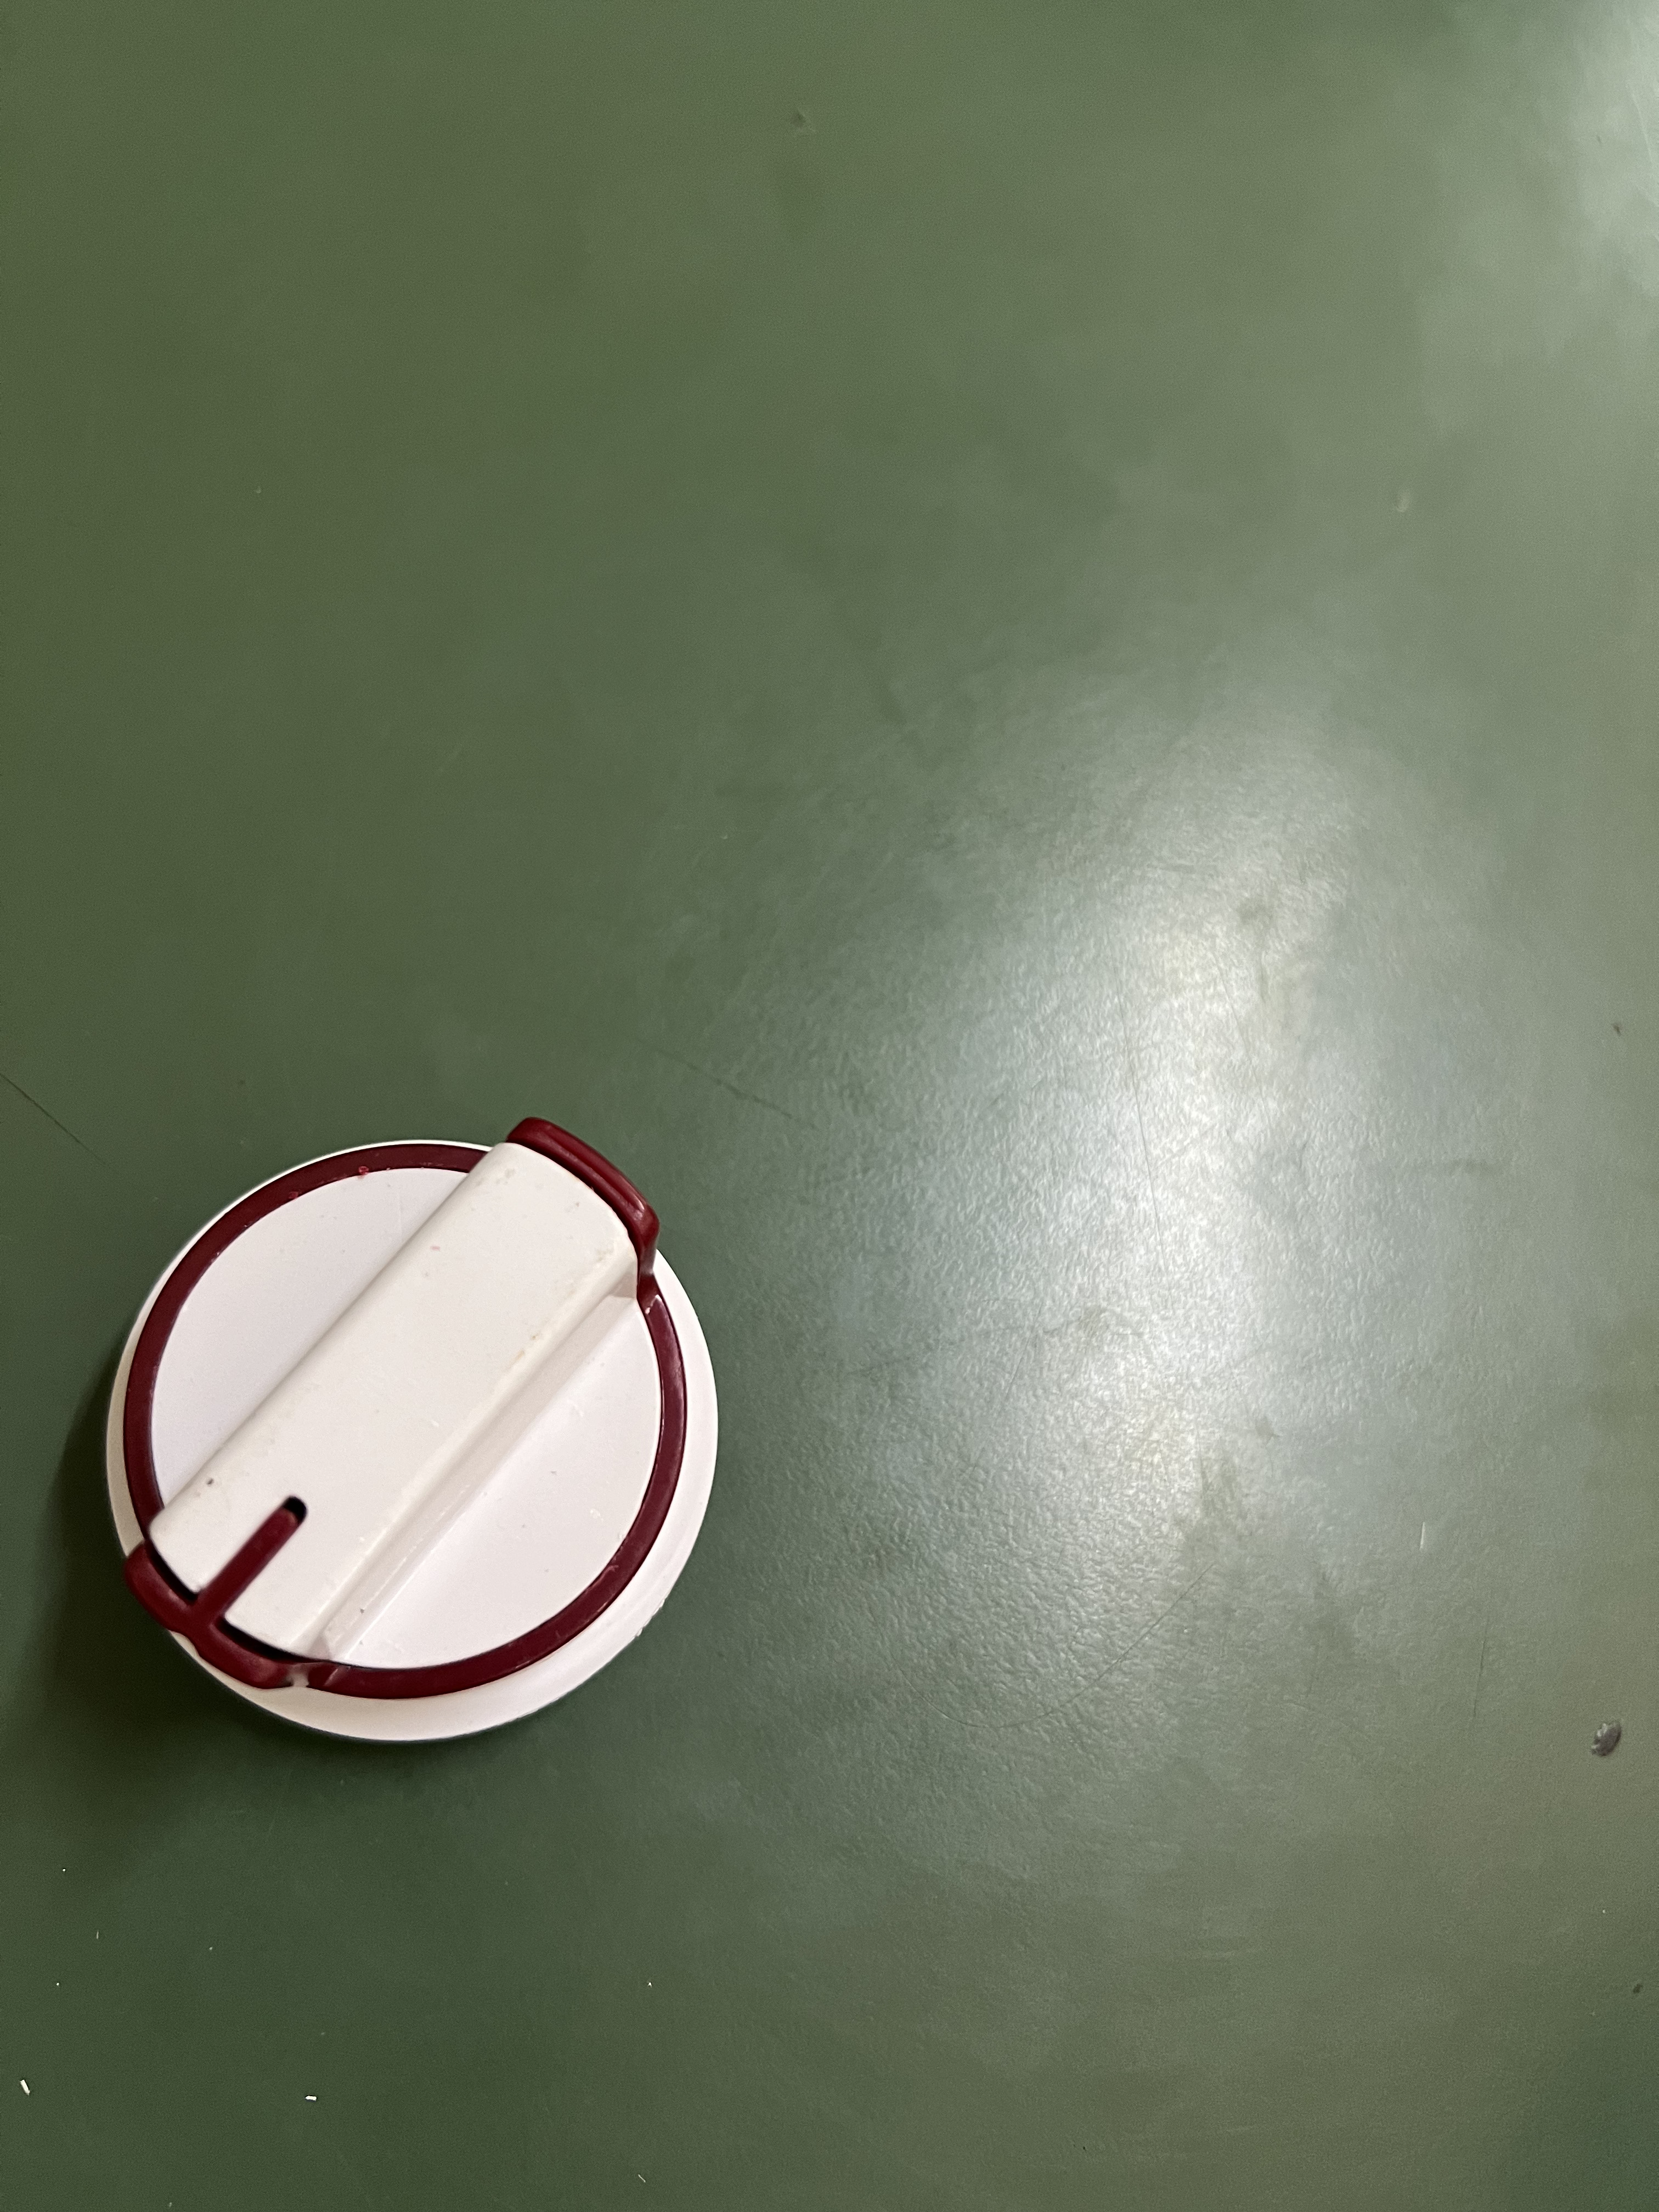regulator: (84, 1077, 725, 1746)
